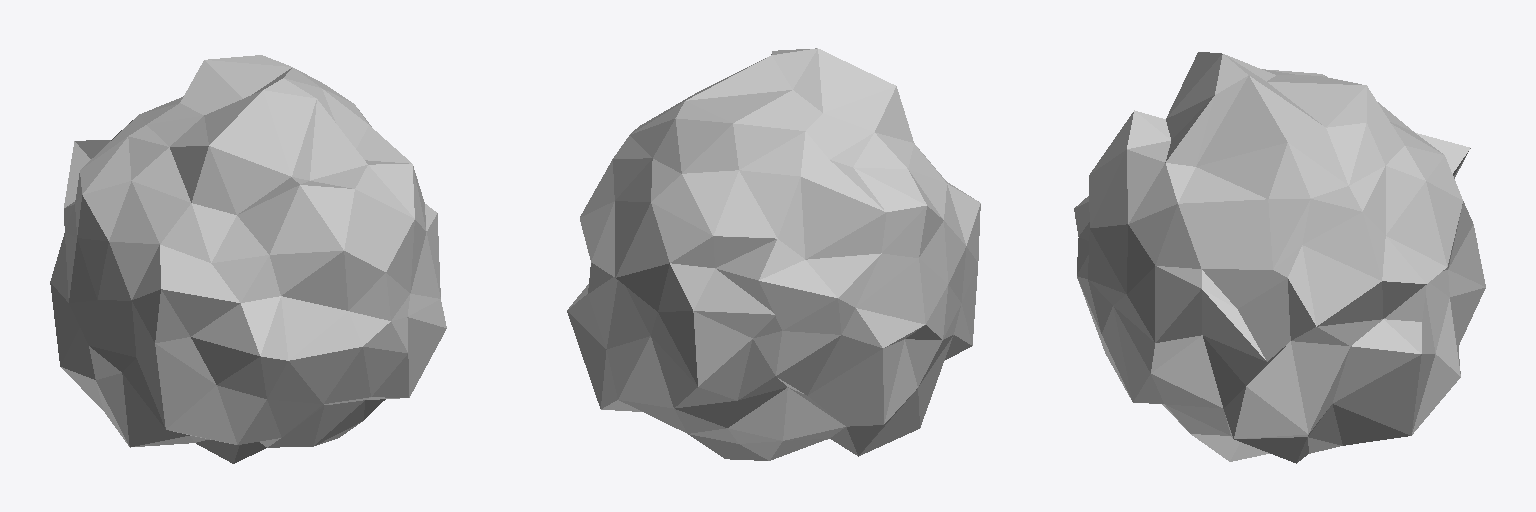
The model's file is fire_000019.obj.
3 renders of one model, left to right at view 1: azimuth 30°, elevation 25°; view 2: azimuth 150°, elevation 25°; view 3: azimuth 270°, elevation 25°, orthographic.
Visible parts, largest first — view 1: Icosphere; view 2: Icosphere; view 3: Icosphere.
Boxes of the visible parts, x1,y1,x2,y2 form: Icosphere: [50, 55, 446, 463]; Icosphere: [567, 48, 980, 460]; Icosphere: [1074, 52, 1485, 463].
Size of the model in its own units: 1.52 by 1.62 by 1.58.